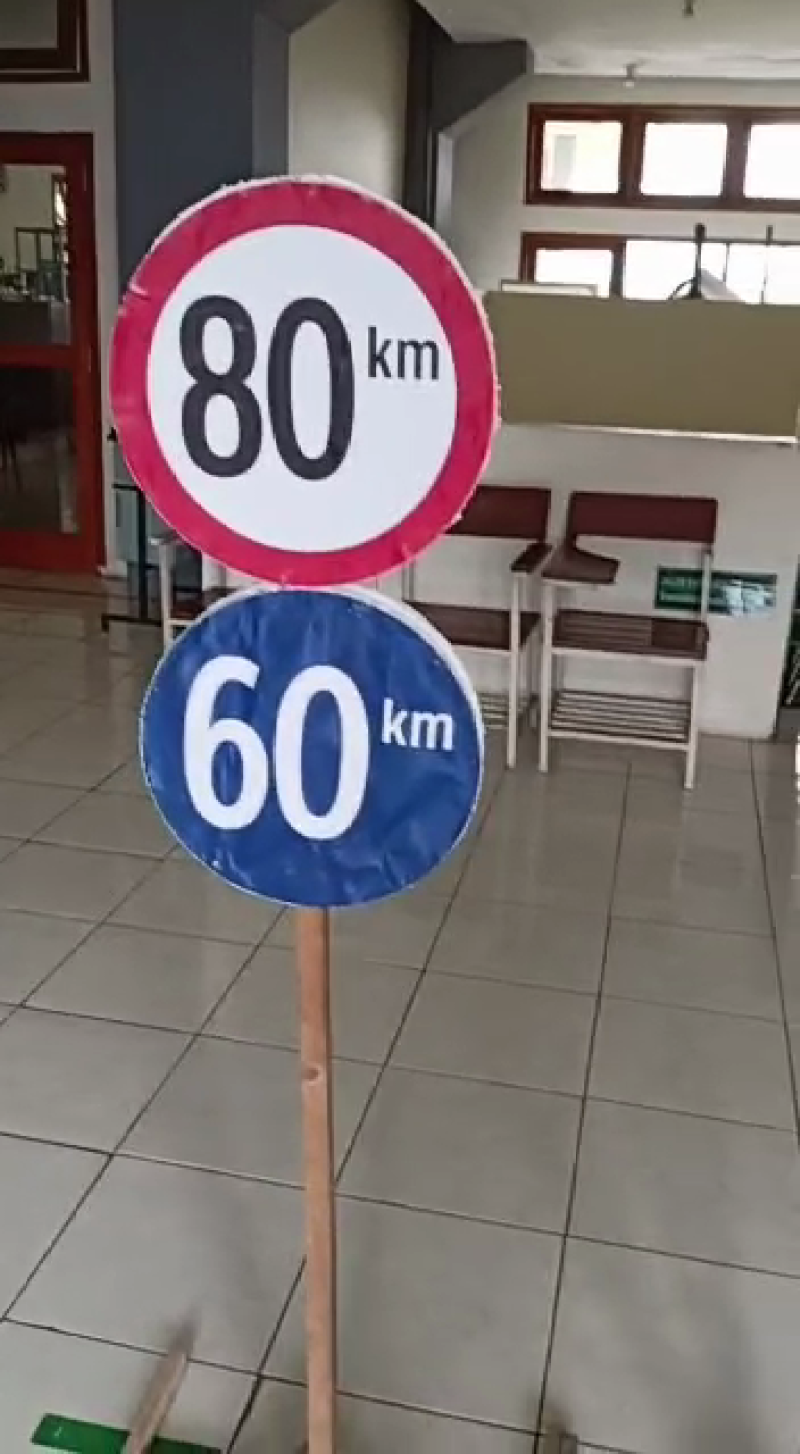batas maksimal 80kmperjam minimal 60kmperjam: (102, 151, 508, 919)
